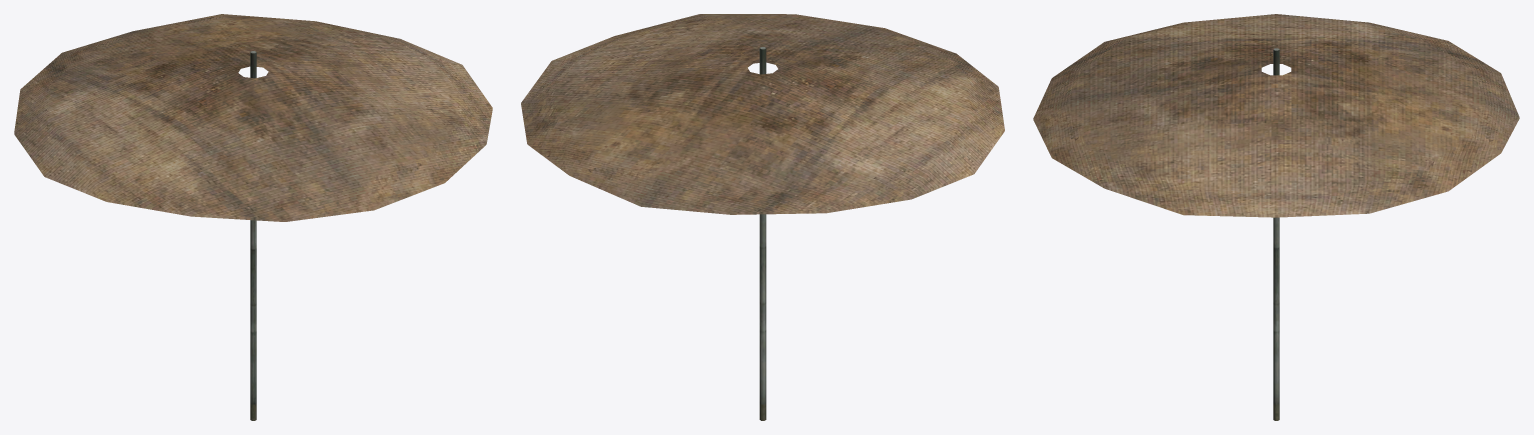
Rendered from frn_tato_cafe_parasol_s01_l0.fbx.
The picture shows the model from 3 angles, left to right: view 1: azimuth 30°, elevation 25°; view 2: azimuth 150°, elevation 25°; view 3: azimuth 270°, elevation 25°; orthographic projection.
Parts seen in each view (by area): view 1: mesh_node; view 2: mesh_node; view 3: mesh_node.
Boxes of the visible parts, box(x1,y1,x2,y2) form: mesh_node: box(14, 14, 492, 420); mesh_node: box(521, 14, 1004, 420); mesh_node: box(1033, 14, 1519, 420).
Size of the model in its own units: 3.64 by 3.06 by 3.64.
